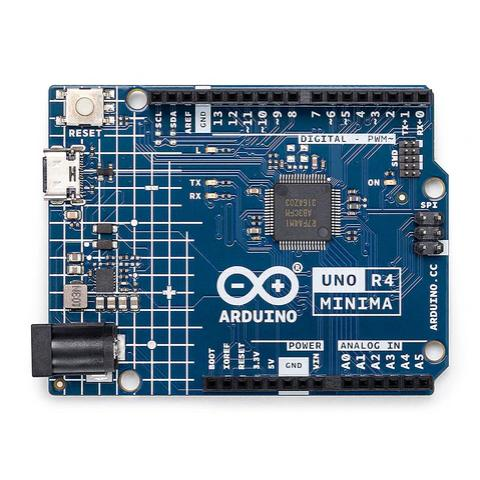Arduino-Uno: (25, 70, 463, 410)
